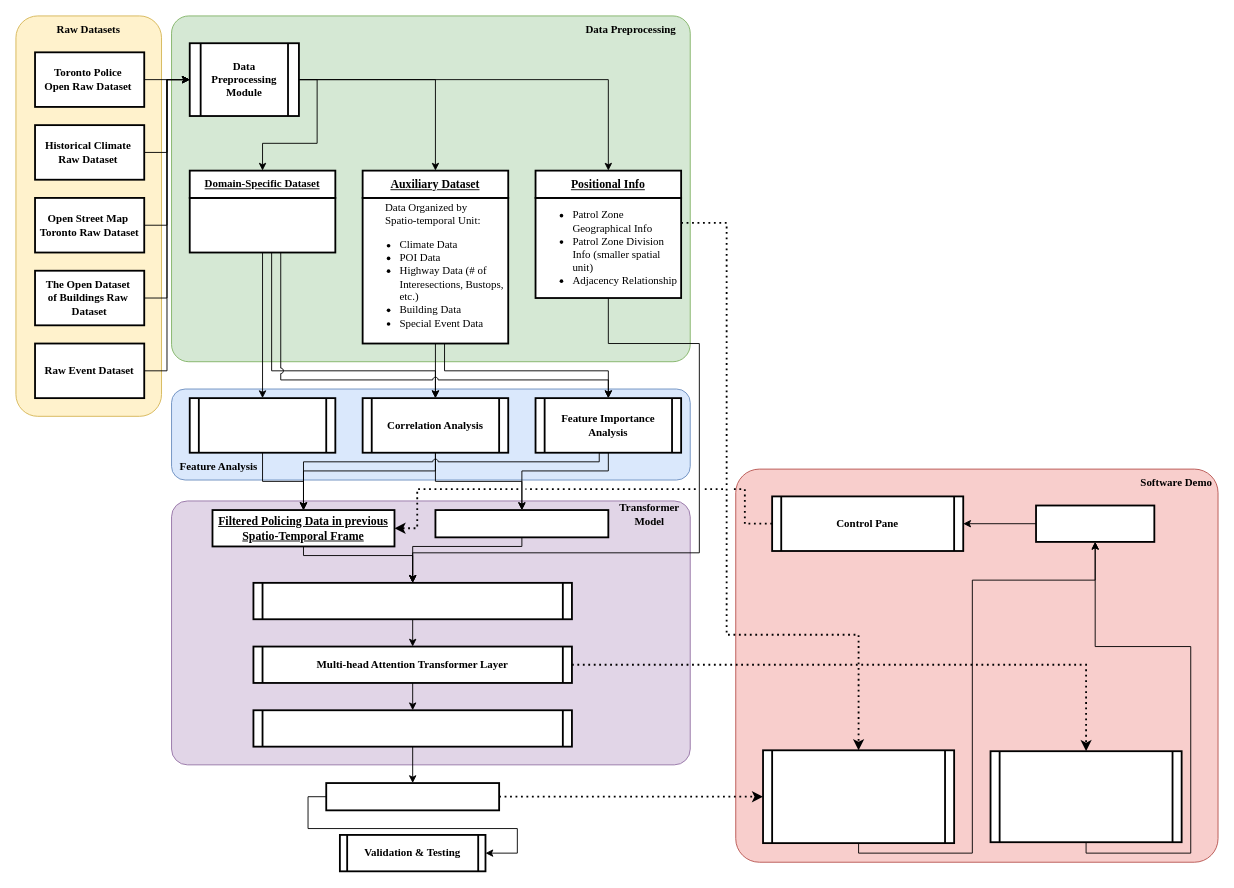
This 1234x888 diagram has some shape labels left out. The box of each missing label's shape, as (x1, y1, x2, y2) in pixels:
Categorized Crimes Occurrences Organized by Finest S patio-temporal Unit: (188, 197, 336, 253)
Descriptive Analysis of Policing Data: (188, 397, 336, 453)
Input Encoding Layer: (252, 581, 572, 620)
Map View: (762, 749, 955, 844)
Predicted Criminal Activities: (325, 782, 500, 811)
Prediction Head & Output Layers: (252, 709, 572, 747)
Result Explainability: (989, 750, 1182, 843)
Selected Auxiliary Features: (434, 509, 609, 538)
User Input: (1035, 504, 1155, 542)
